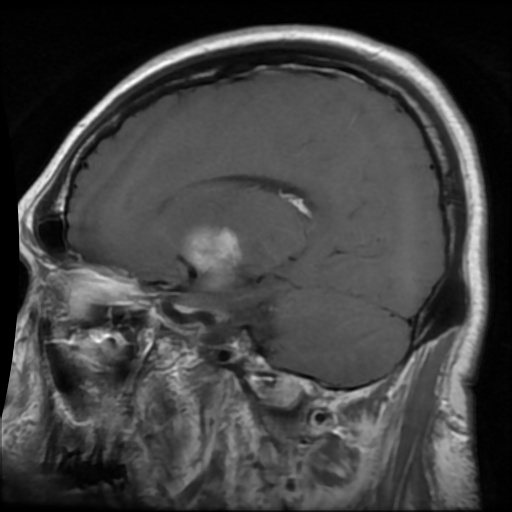pituitary: (181, 224, 240, 287)
